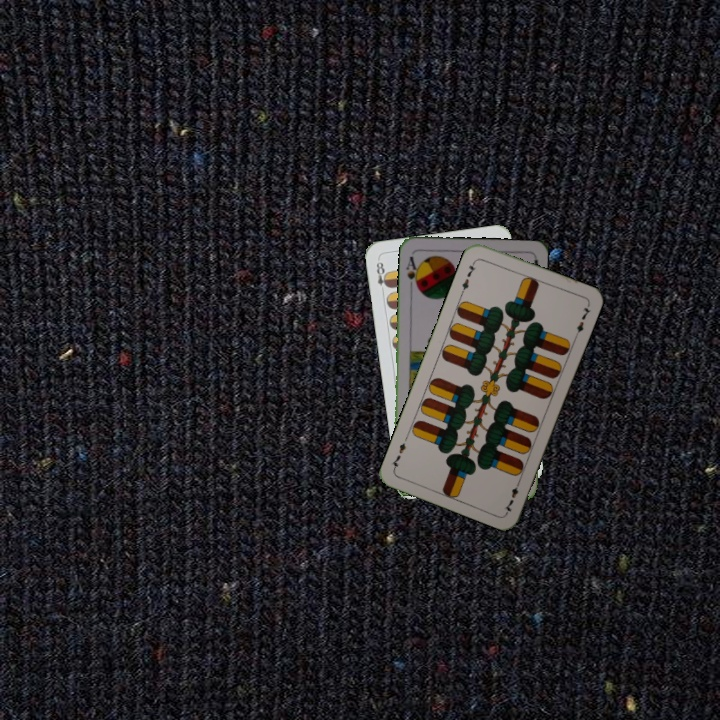E7: (500, 476, 523, 515), (457, 257, 479, 296)
E8: (372, 256, 392, 296)
SA: (402, 252, 422, 291)
